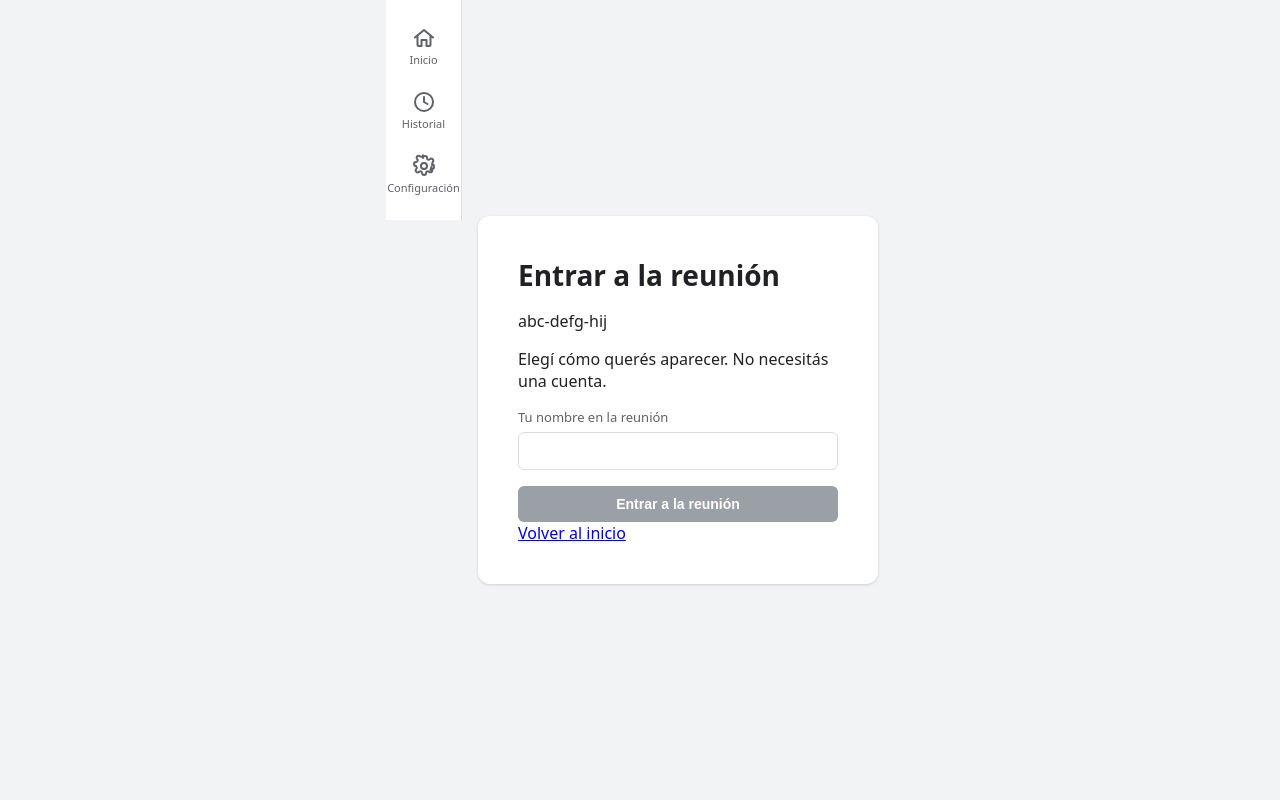
RoomPage: enlace de invitado › el botón de toggle oculta y vuelve a mostrar el panel de chat
The image size is (1280, 800).
Step 1. Type "Alex" into the field labelled "Tu nombre en la reunión" → (678, 451), box [518,432,838,470]
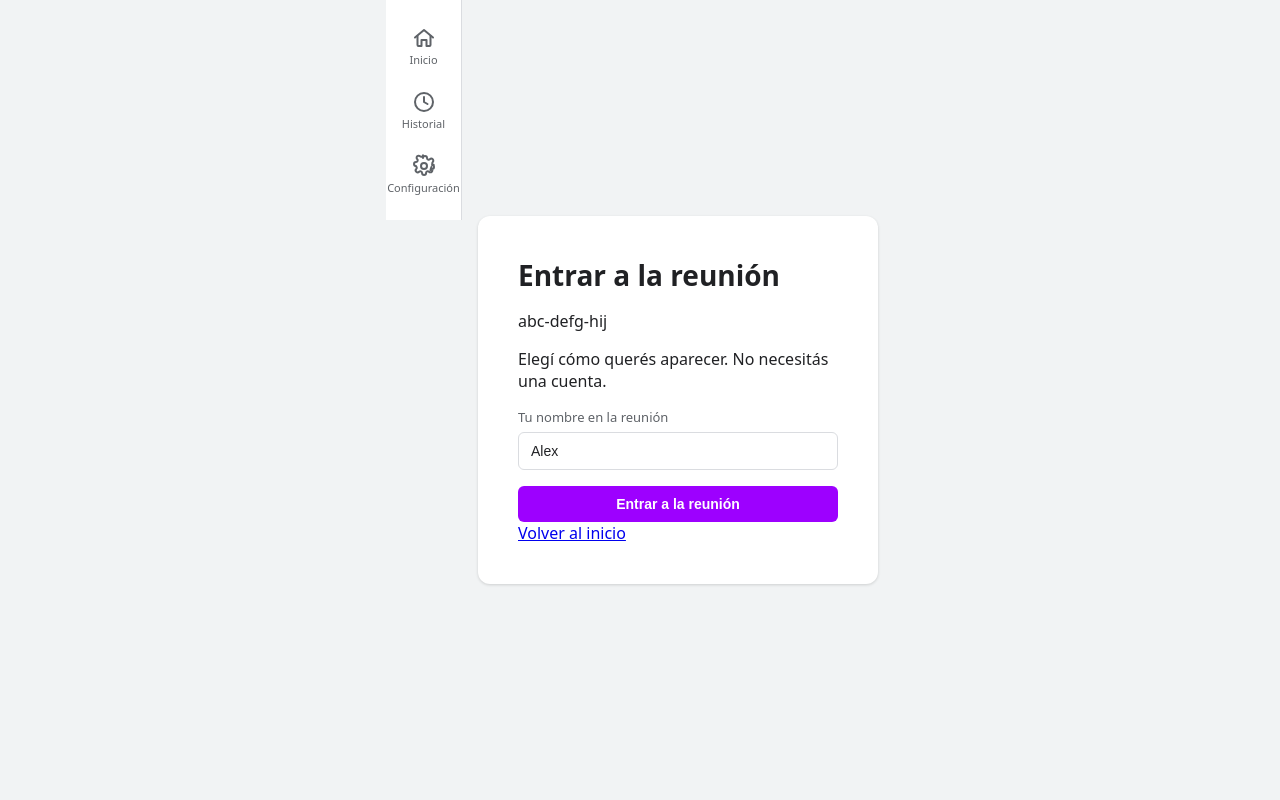
Step 2. Click the button "Entrar a la reunión" → click(678, 504), box [518,486,838,522]
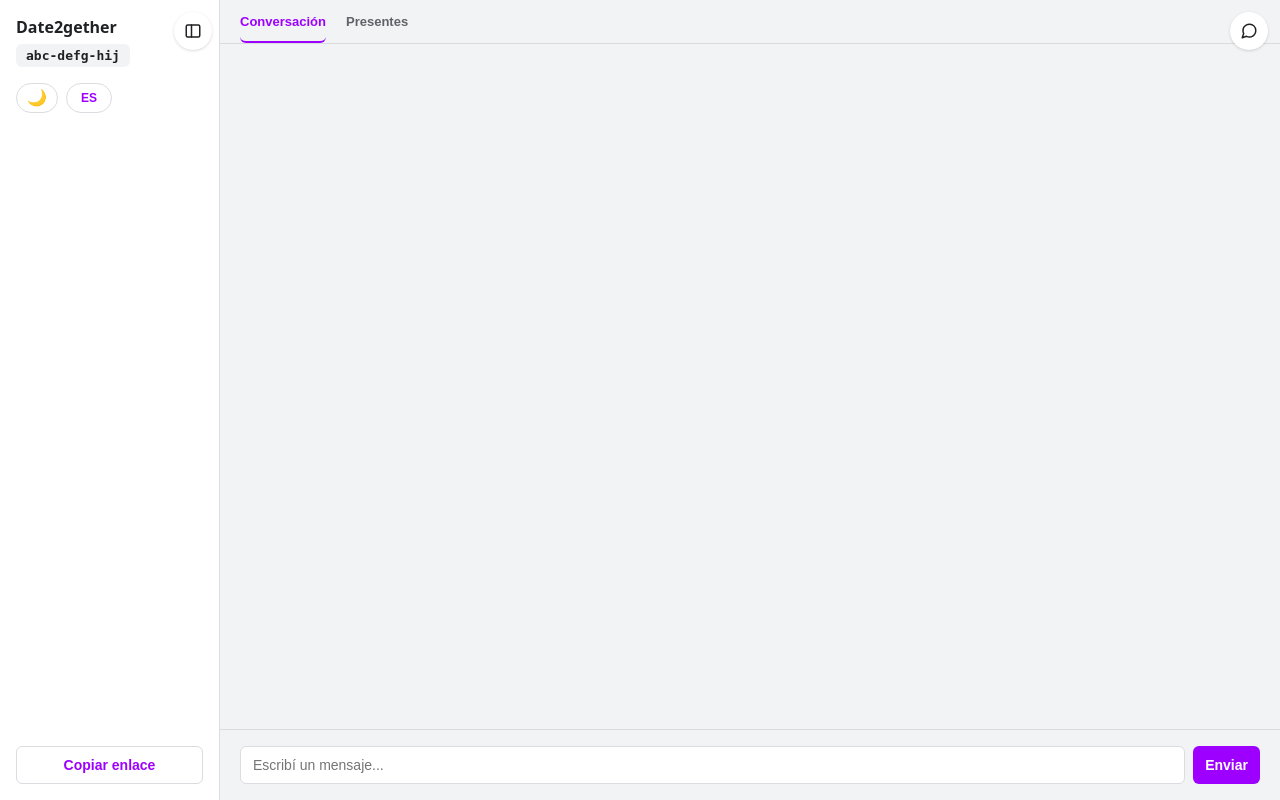
Result: the field with placeholder "Escribí un mensaje..." is shown at [240,746,1185,784]
Step 3. Click the button named "Ocultar chat" → click(1249, 31), box [1230,12,1268,50]
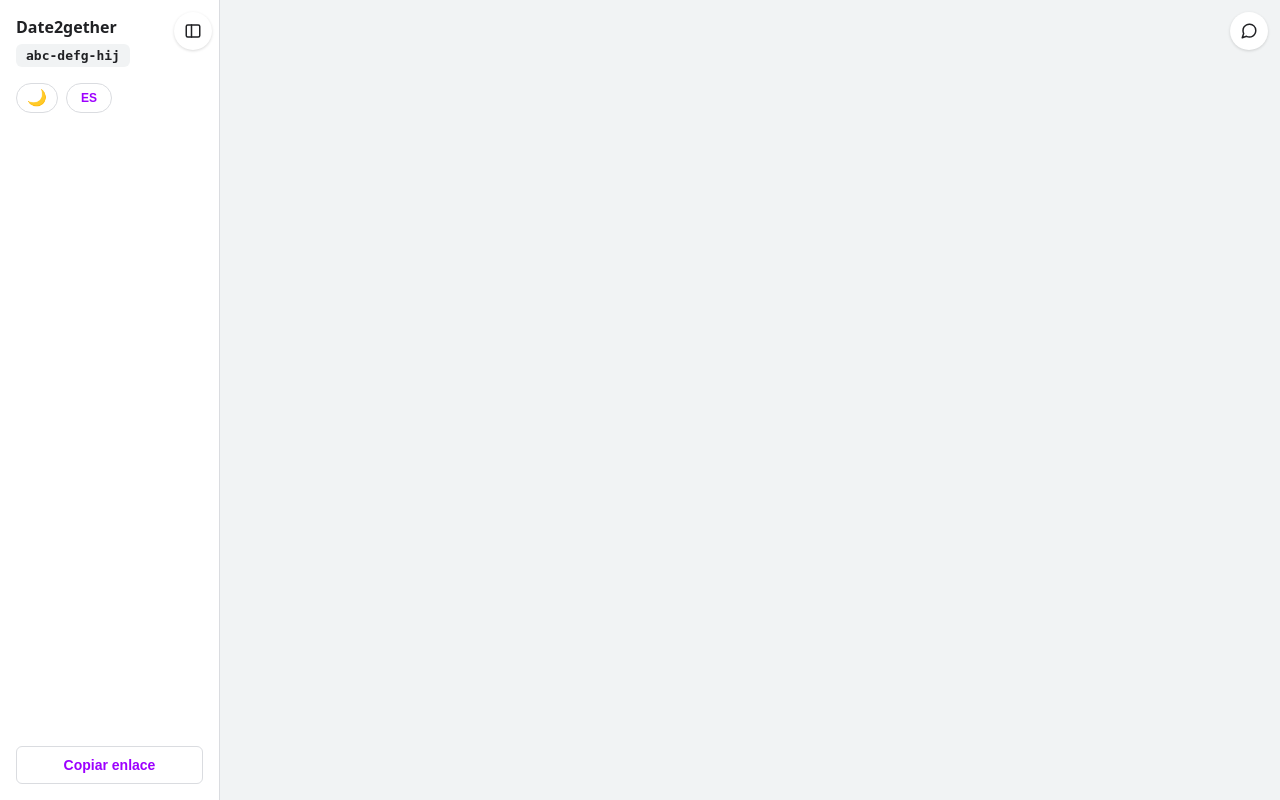
Expected: the field with placeholder "Escribí un mensaje..." is not shown
Step 4. Click the button named "Mostrar chat" → click(1249, 31), box [1230,12,1268,50]
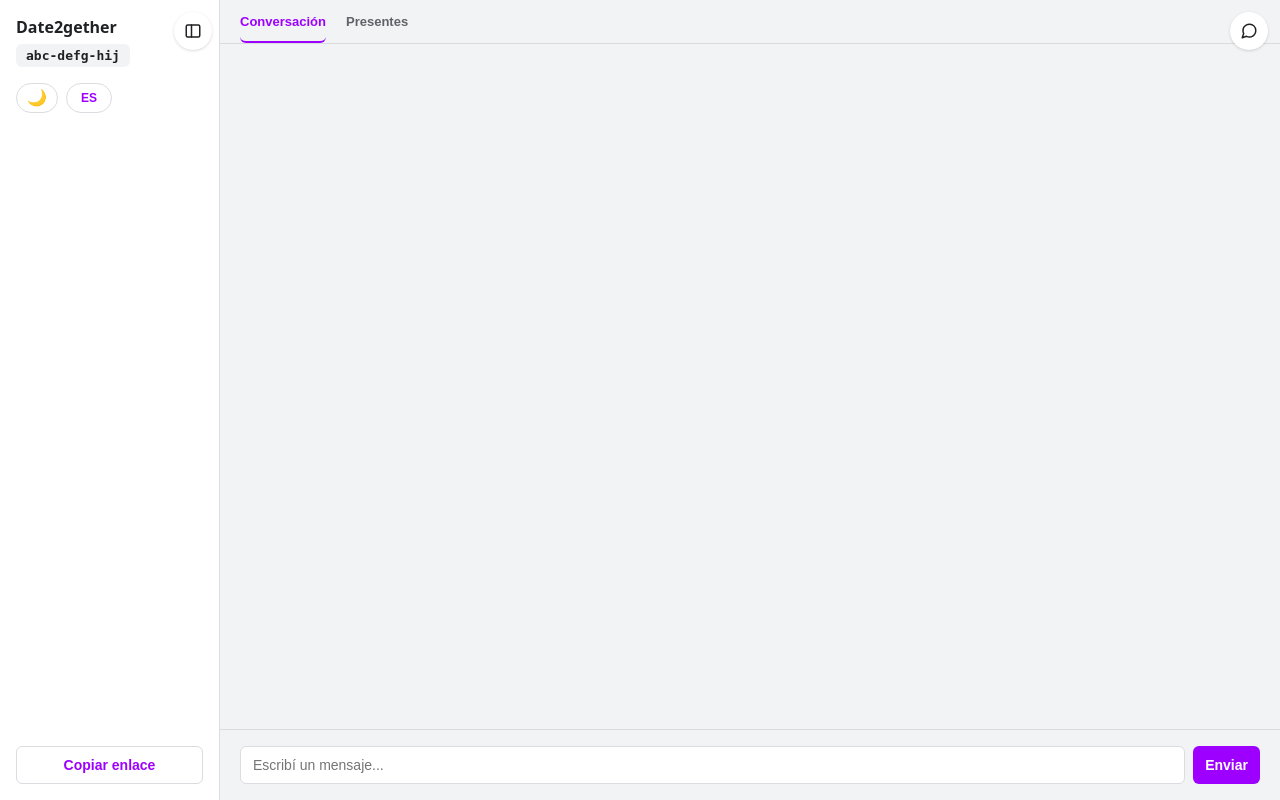
Result: the field with placeholder "Escribí un mensaje..." is shown at [240,746,1185,784]
